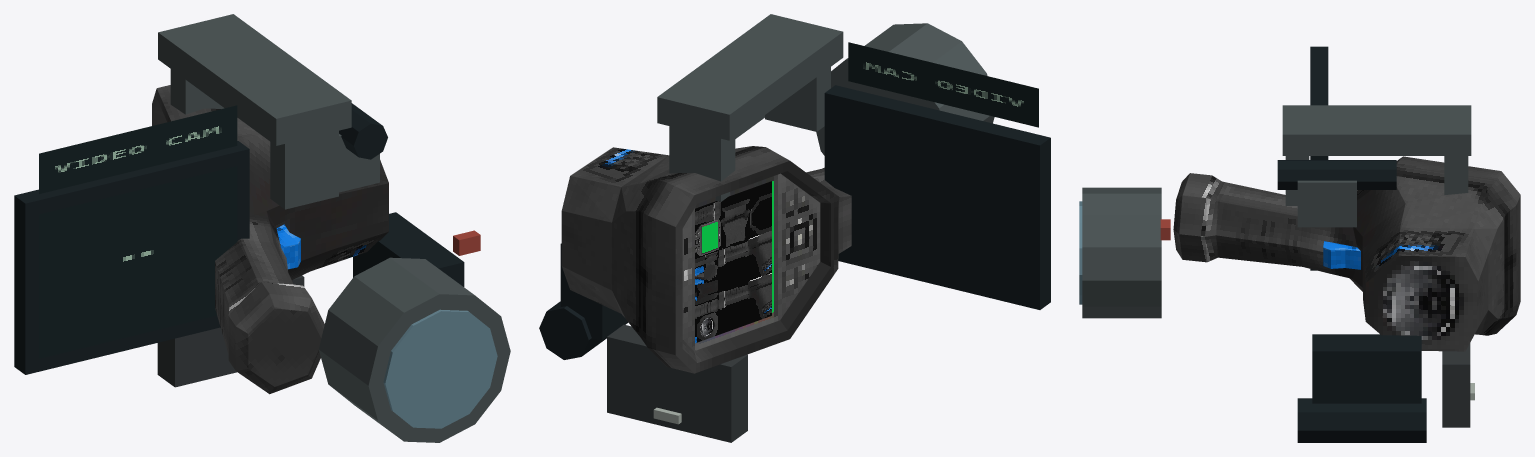
File: blender_video_camera_2.glb
3 renders of one model, left to right at view 1: azimuth 30°, elevation 25°; view 2: azimuth 150°, elevation 25°; view 3: azimuth 270°, elevation 25°, orthographic. The views are drawn at different scales.
Parts seen in each view (by area): view 1: blender_video_camera_2; view 2: blender_video_camera_2; view 3: blender_video_camera_2.
Part boxes in pixels (<box>): blender_video_camera_2: <box>14,14,510,442</box>; blender_video_camera_2: <box>539,14,1050,442</box>; blender_video_camera_2: <box>1079,46,1520,442</box>.
Bounding box in the file's own units: 0.2133 × 0.1545 × 0.2225.
1 material, 1 textured.
